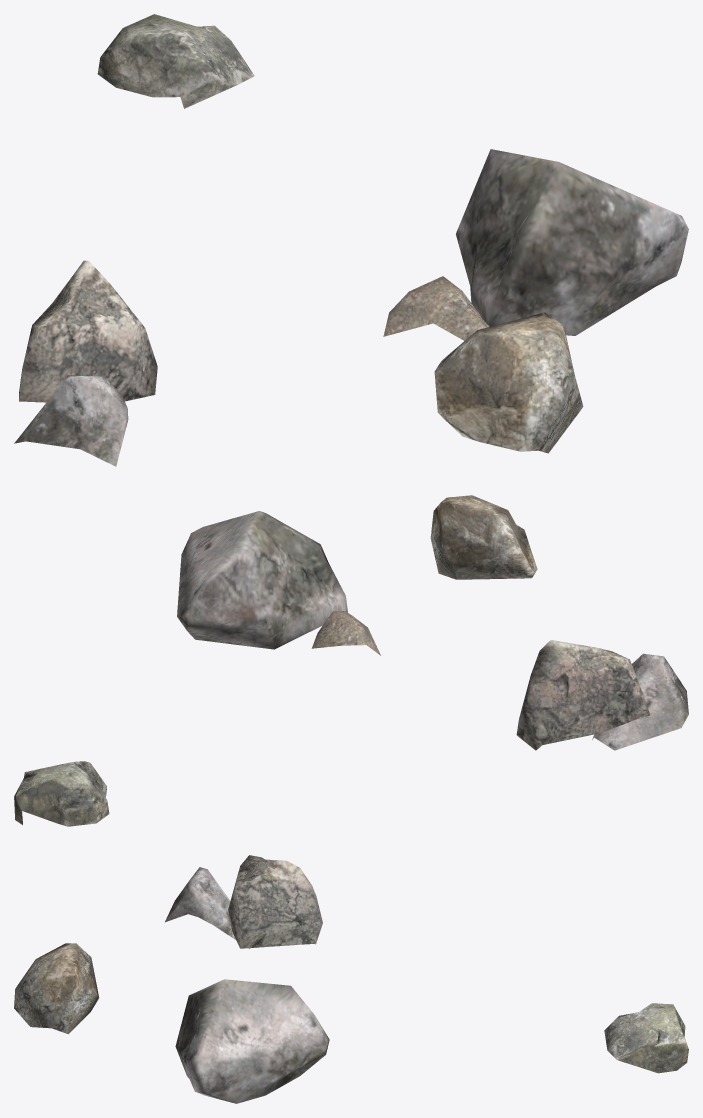
The model's file is proc_stones_02.FBX.
3 views of the same model, one above another, from view 1: azimuth 30°, elevation 25°; view 2: azimuth 150°, elevation 25°; view 3: azimuth 270°, elevation 25° (orthographic). The views are drawn at different scales.
Parts seen in each view (by area): view 1: proc_stones_02; view 2: proc_stones_02; view 3: proc_stones_02.
Boxes of the visible parts, x1,y1,x2,y2 form: proc_stones_02: [14, 14, 688, 466]; proc_stones_02: [14, 495, 688, 826]; proc_stones_02: [14, 855, 688, 1103].
Bounding box in the file's own units: 0.4082 × 0.5449 × 0.104.
1 material, 1 textured.
